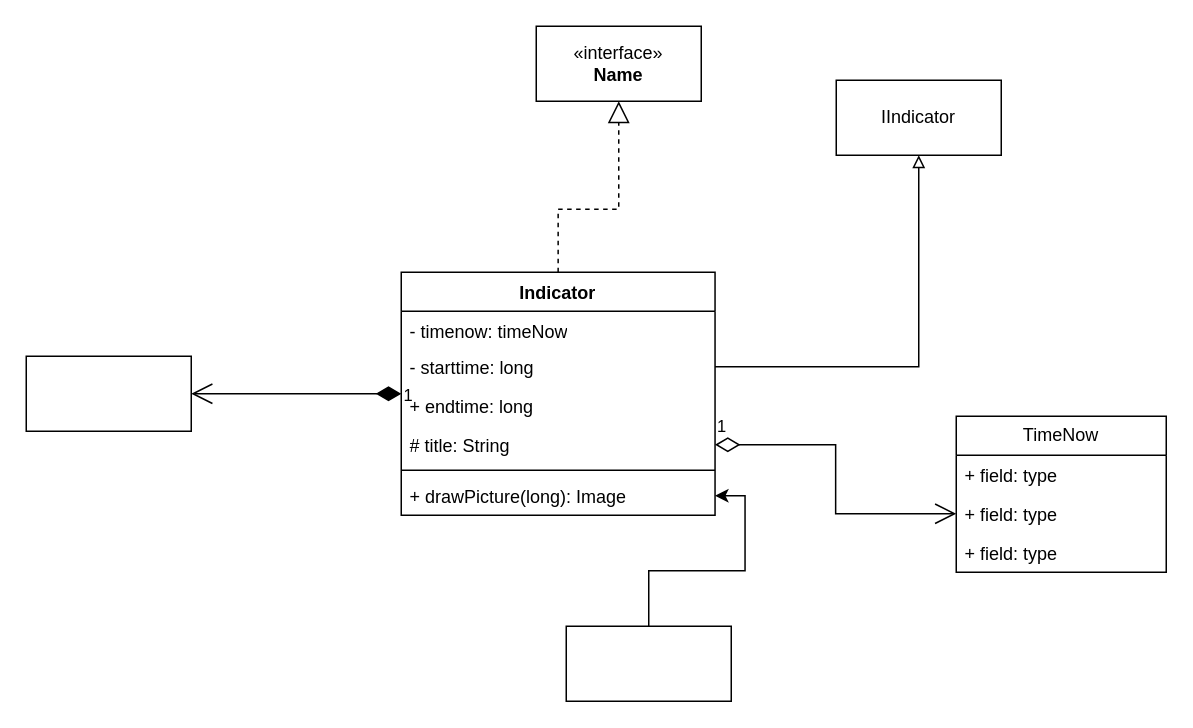
Image size: 1193x728. Some labels were removed from this diagram. The shapes that lost their labels are listed below. From the top down, each one's centre as x and y in pixels, then its label:
the point at 108,393: TitleComment
the point at 648,663: MyImage
